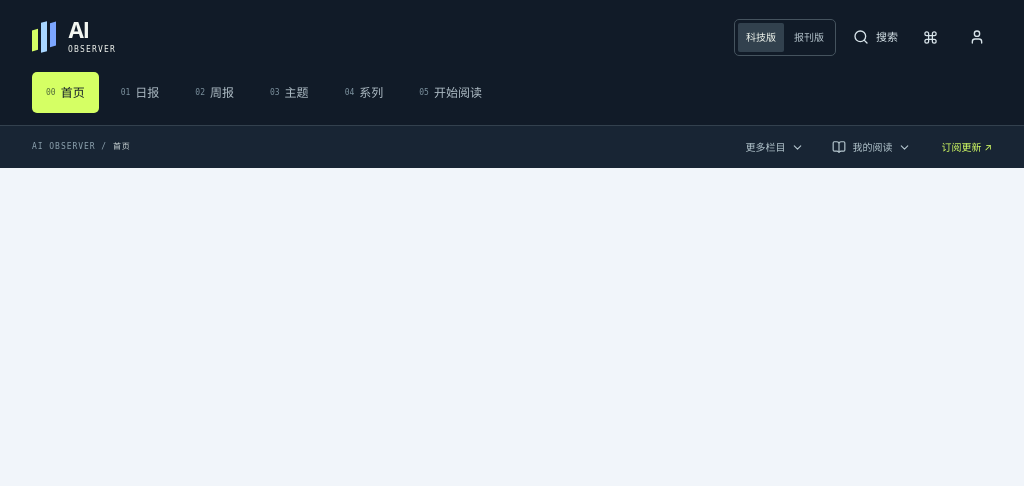
Test case: Navbar navigation › shows the desktop browse menu with every secondary destination
The width and height of the screenshot is (1024, 486).
Step 1. Click the button "更多栏目" → (775,147), box x1=745 y1=126 x2=804 y2=168
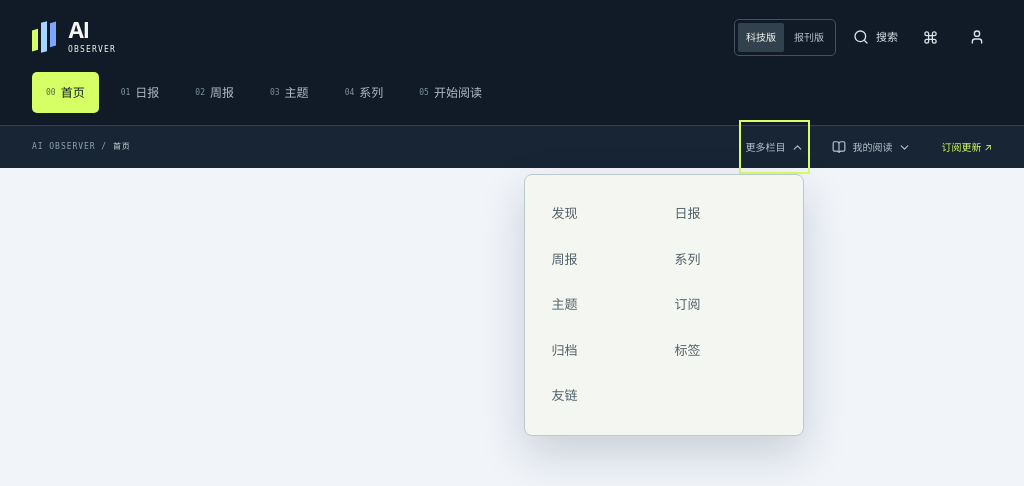
Now the element showing "发现 日报 周报 系列 主题 订阅 归档 标签 友链" is shown, box x1=524 y1=174 x2=804 y2=436
